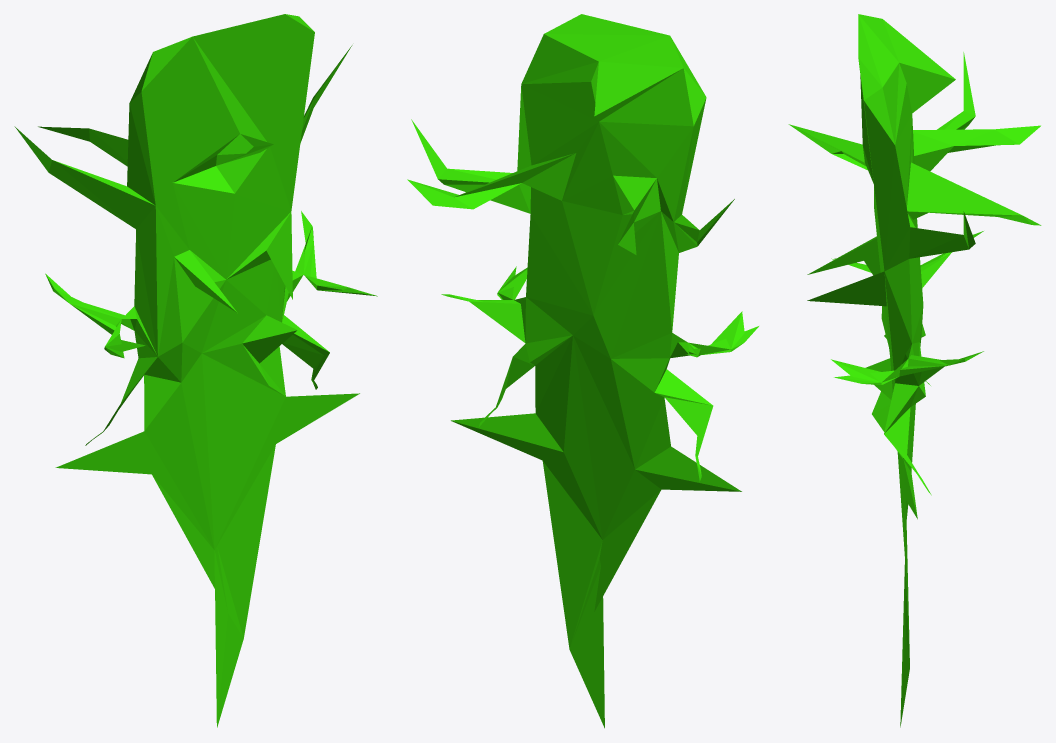
The model's file is Larger Centered Green Prion.fbx.
3 renders of one model, left to right at view 1: azimuth 30°, elevation 25°; view 2: azimuth 150°, elevation 25°; view 3: azimuth 270°, elevation 25°, orthographic. The views are drawn at different scales.
Visible parts, largest first — view 1: Prion:Mesh; view 2: Prion:Mesh; view 3: Prion:Mesh.
Part boxes in pixels (box(x1,y1,x2,y2)): Prion:Mesh: box(14, 14, 377, 727); Prion:Mesh: box(407, 14, 758, 728); Prion:Mesh: box(788, 14, 1041, 727).
Size of the model in its own units: 6.74 by 13.65 by 4.53.
